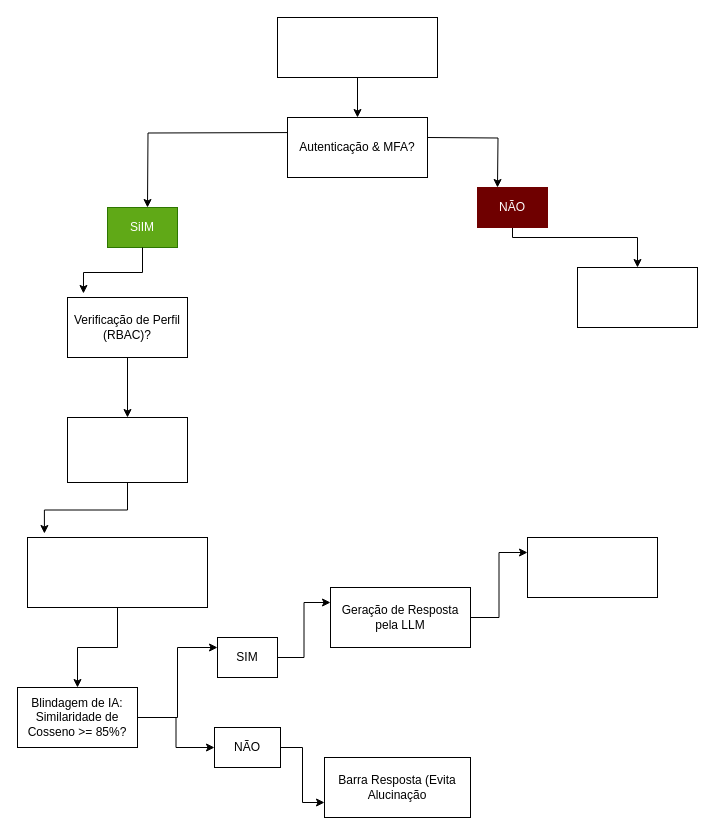
The diagram is 715 pixels wide and 835 high, and some of its shapes have lost their labels. The shapes that lost their labels are listed below. From the top down, each one's box as (x1, y1, x2, y2) in pixels, then its label:
(276, 16, 438, 78): Usuário faz Consulta
(576, 266, 698, 328): Bloqueio e Log de Auditoria .
(66, 416, 188, 482): Filtro de Escopo por Departamento
(26, 536, 208, 608): (LGPD) Pipeline NLP: Anonimização de Dados Sensíveis (NER)
(526, 536, 658, 598): Renderização Segura (Somente Leitura)
